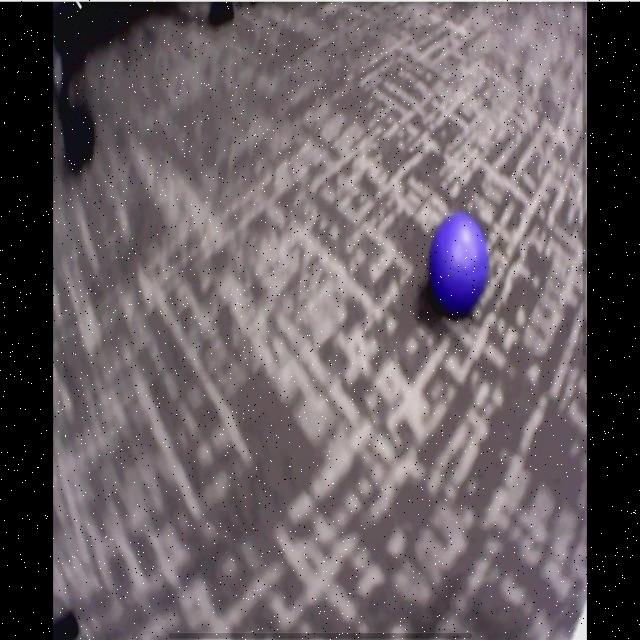ball: (428, 215, 490, 310)
